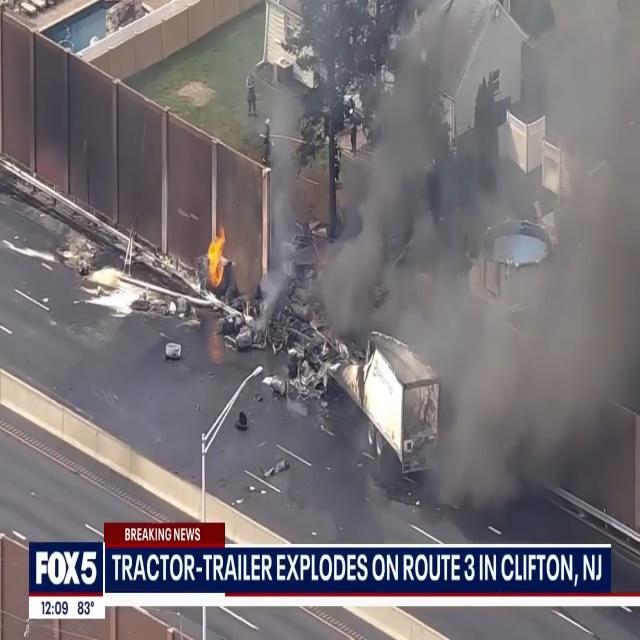fire: (202, 224, 232, 294)
